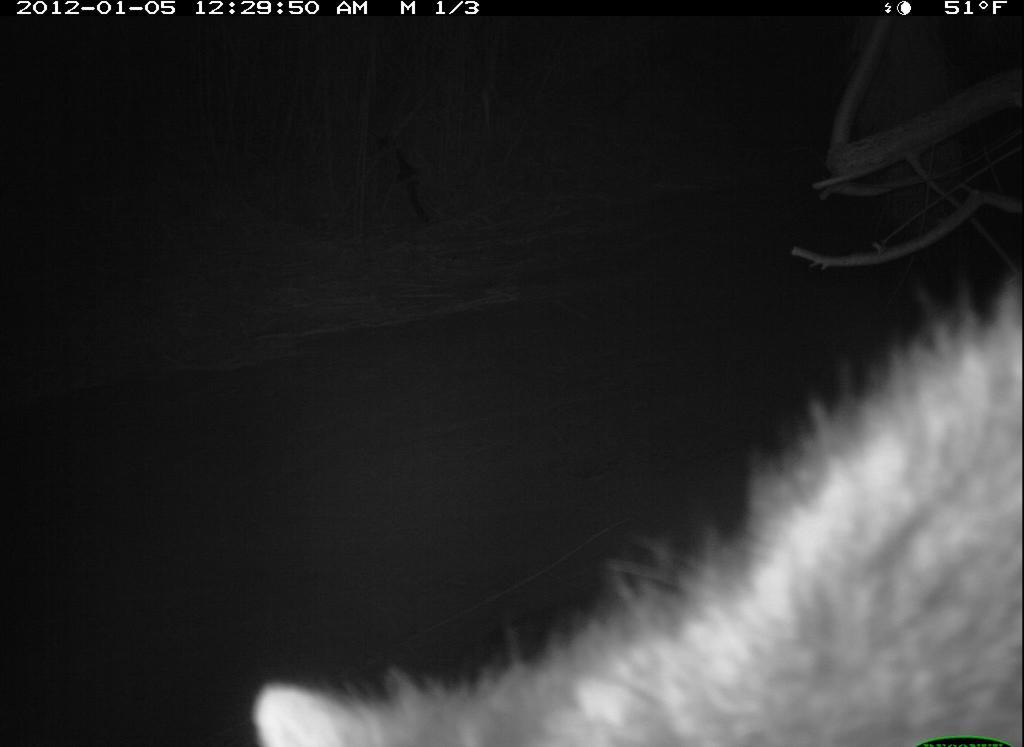raccoon: (242, 262, 1021, 747)
